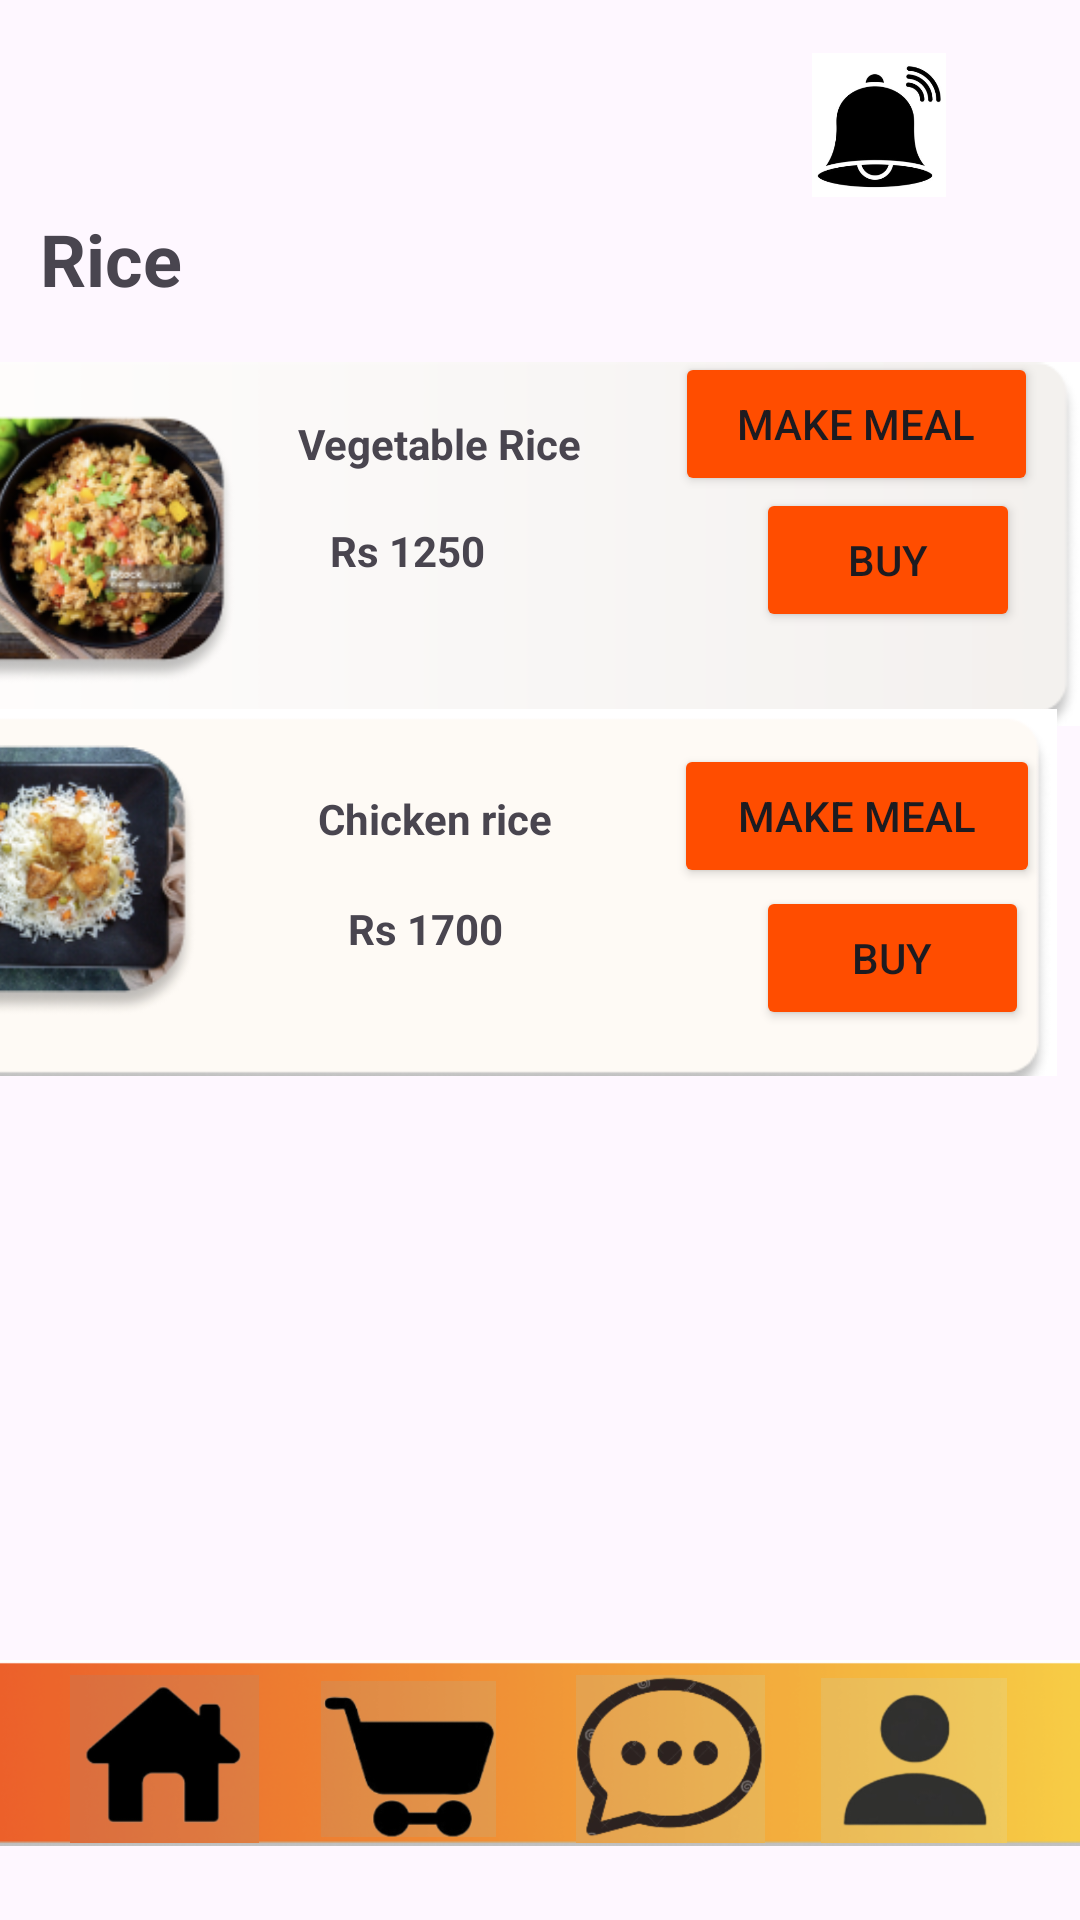

Point at icon controls on the screen. Image size 1080×1920, points as (x,y).
go to account page: (914,1760)
go to cart page: (384,1759)
go to chat page: (670,1759)
go to home page: (164,1759)
go to notification page: (879,126)
